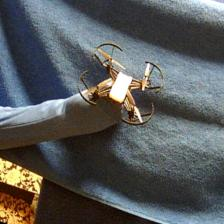drone: (77, 38, 166, 130)
